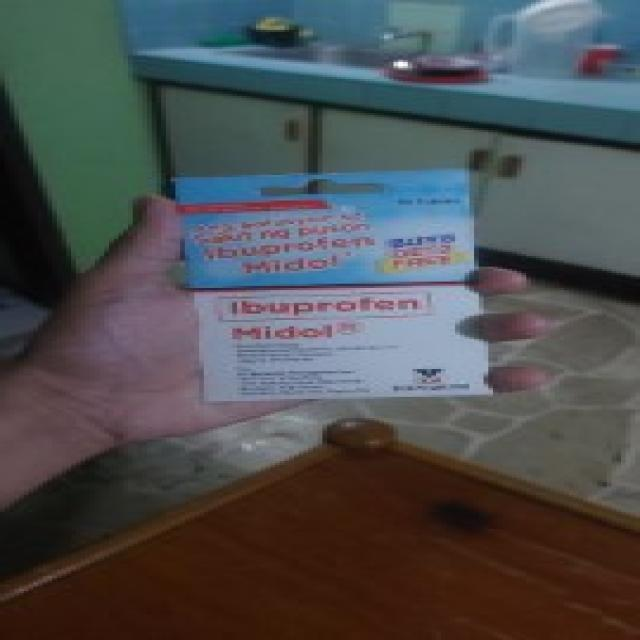Cacat: (171, 169, 484, 401)
